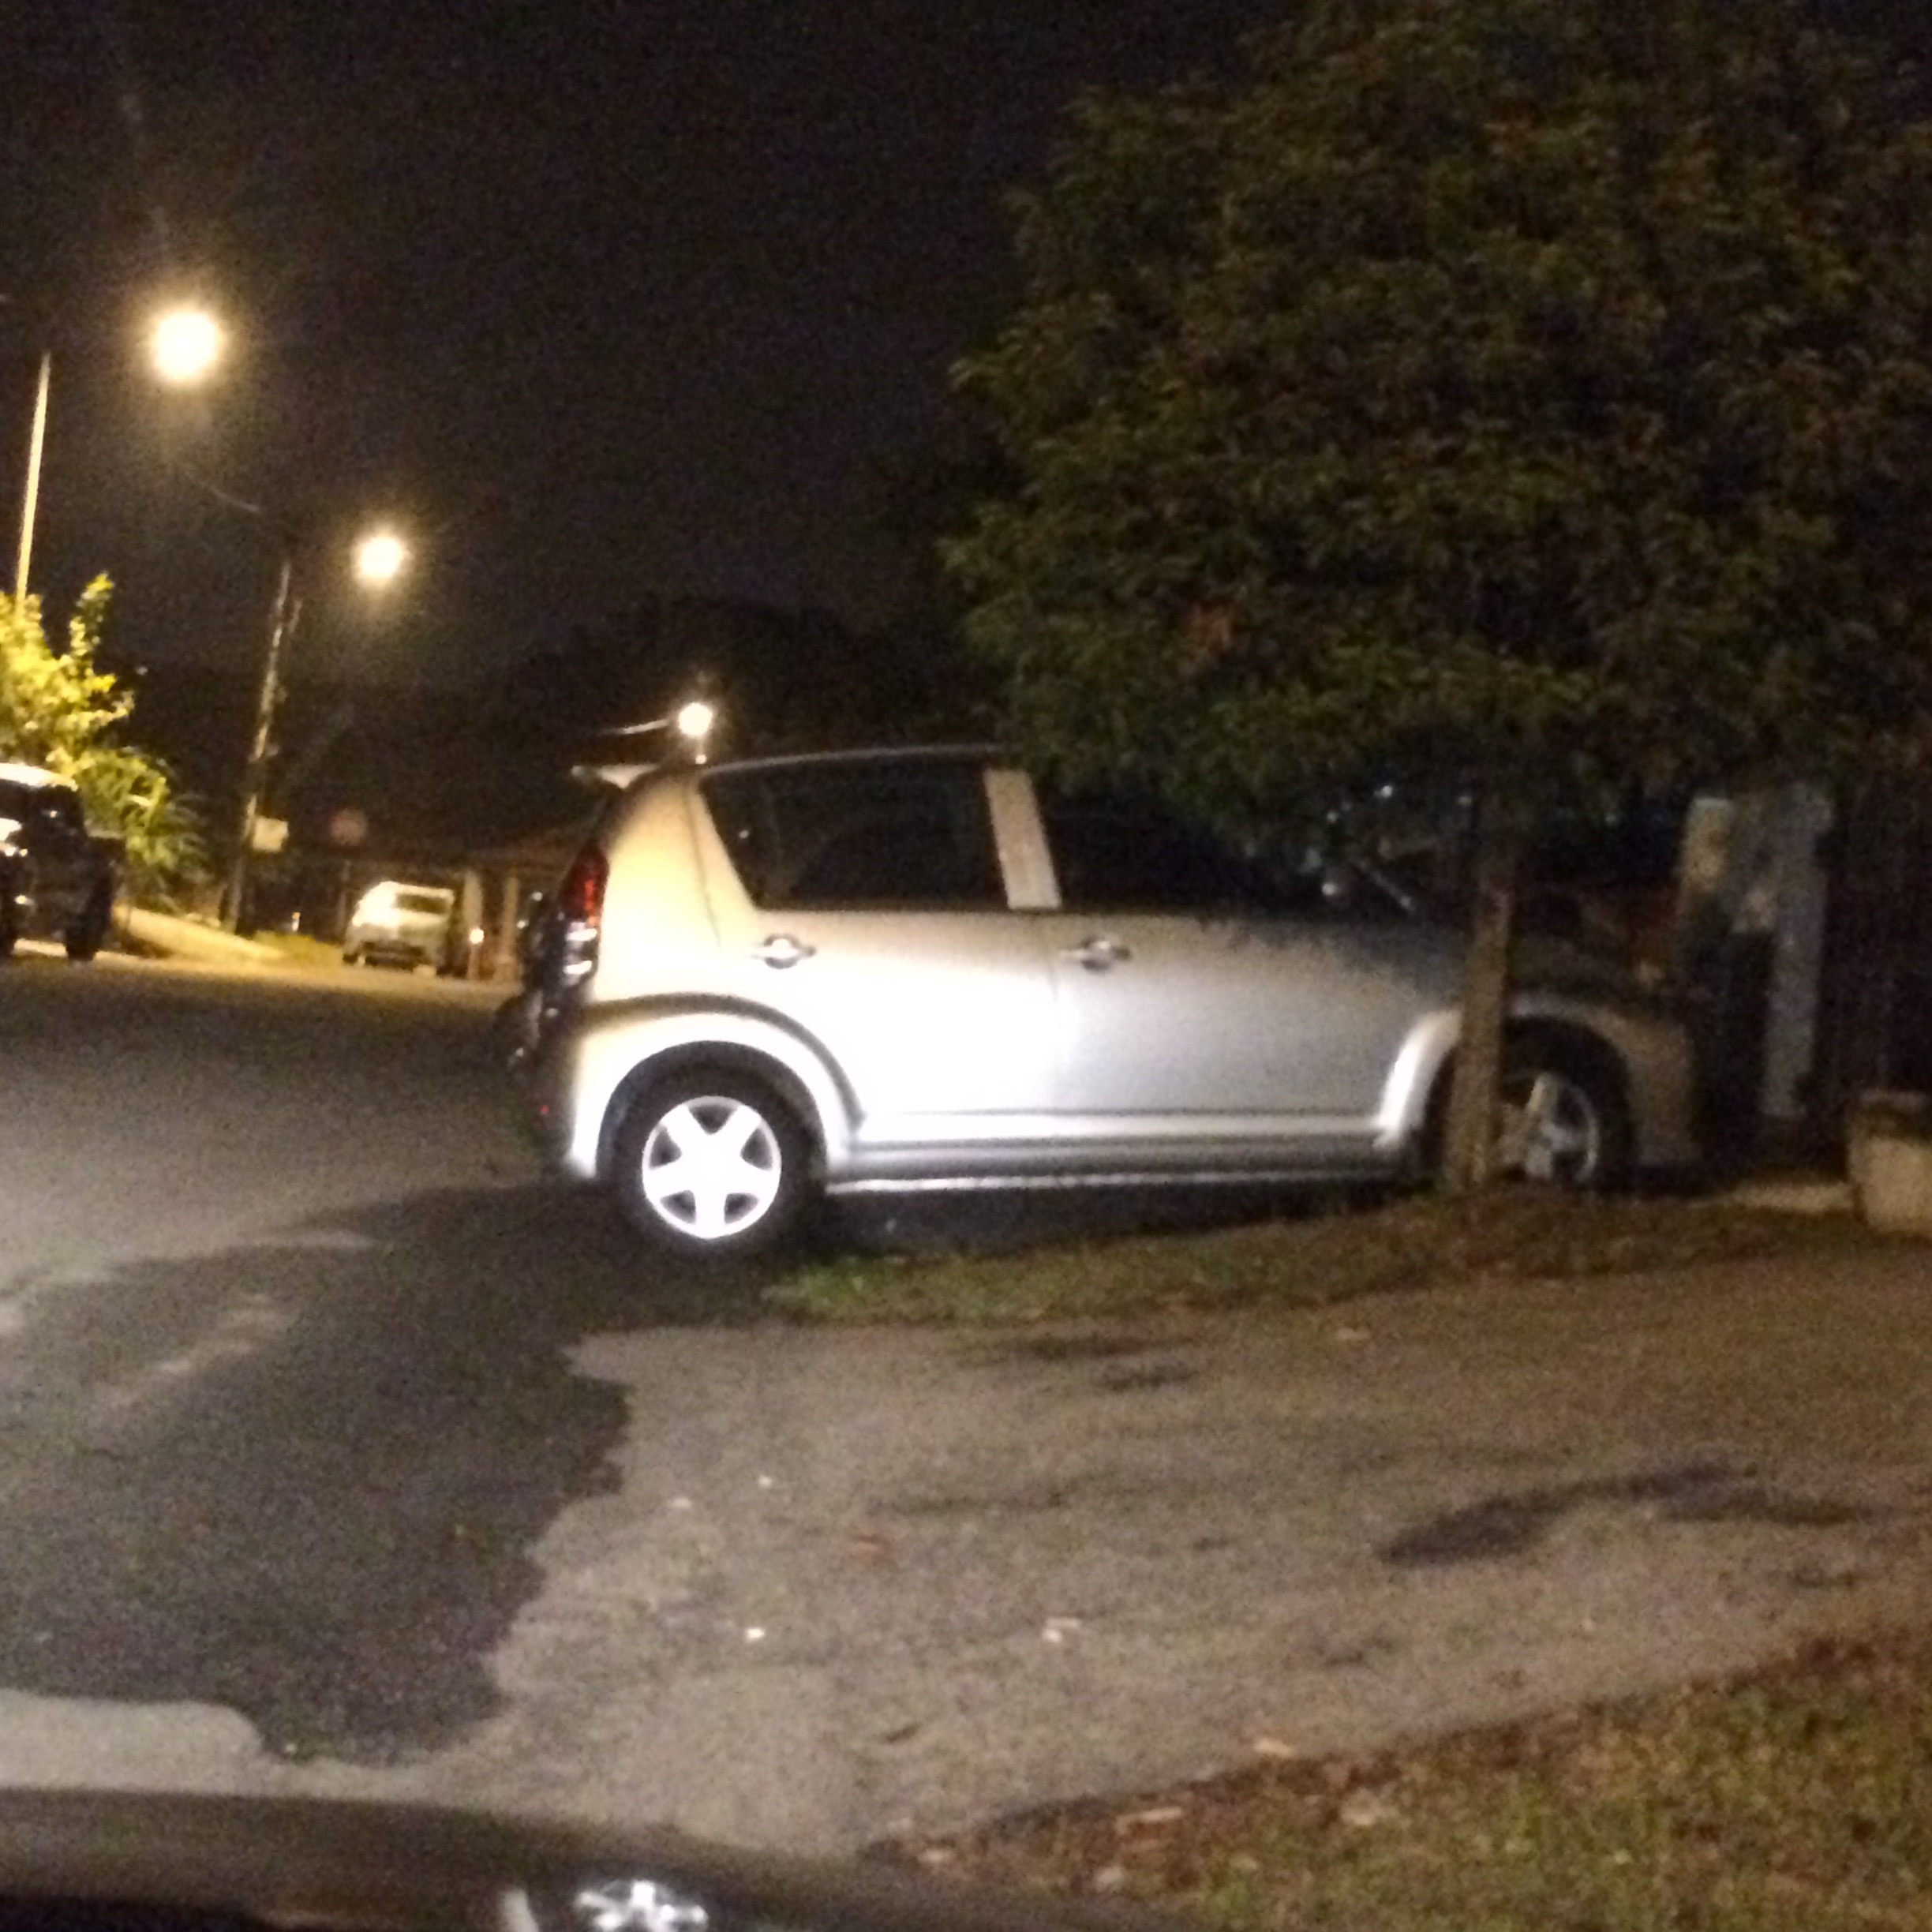car: (320, 865, 481, 994)
